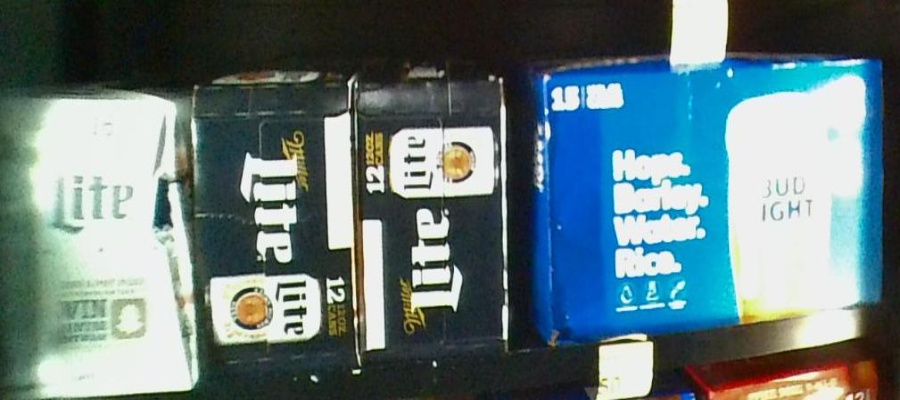bottle: (529, 56, 882, 309), (1, 96, 197, 400), (193, 83, 358, 367), (358, 73, 510, 351)
